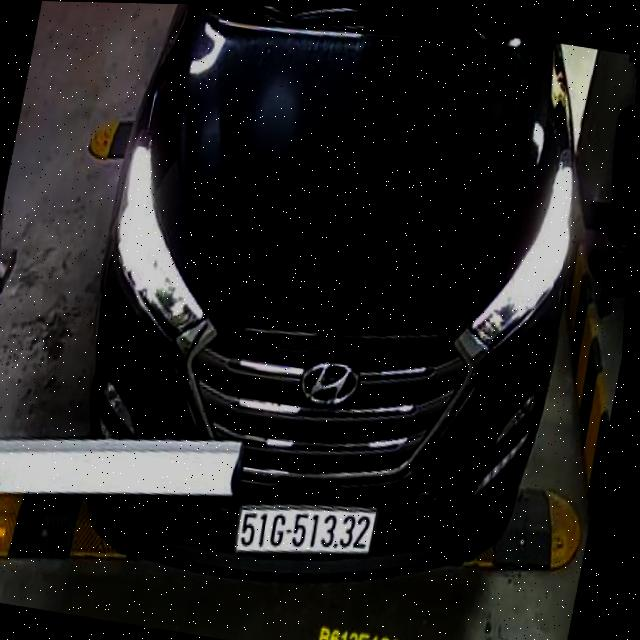car: (39, 2, 623, 630)
plate: (228, 487, 381, 576)
